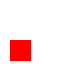square: (10, 40, 30, 60)
